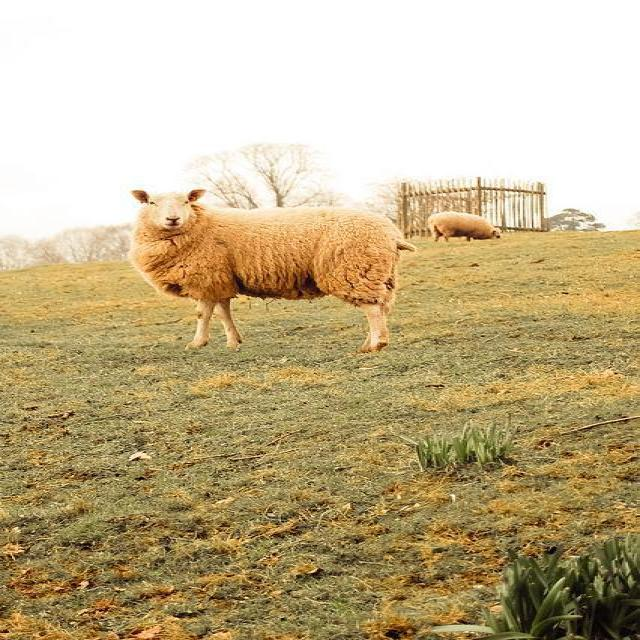Sheep: (126, 189, 418, 355)
